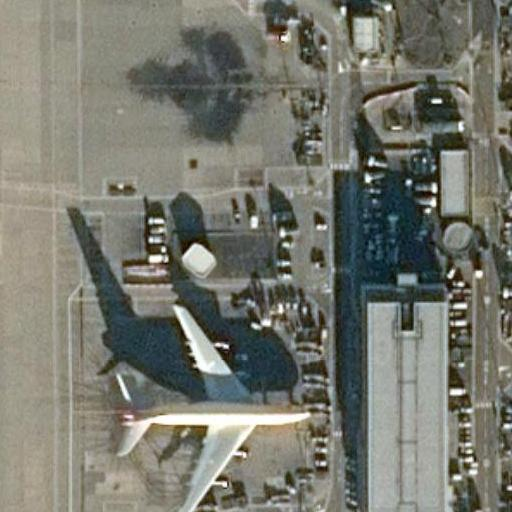Aircraft: (110, 297, 314, 512), (107, 300, 311, 512)
